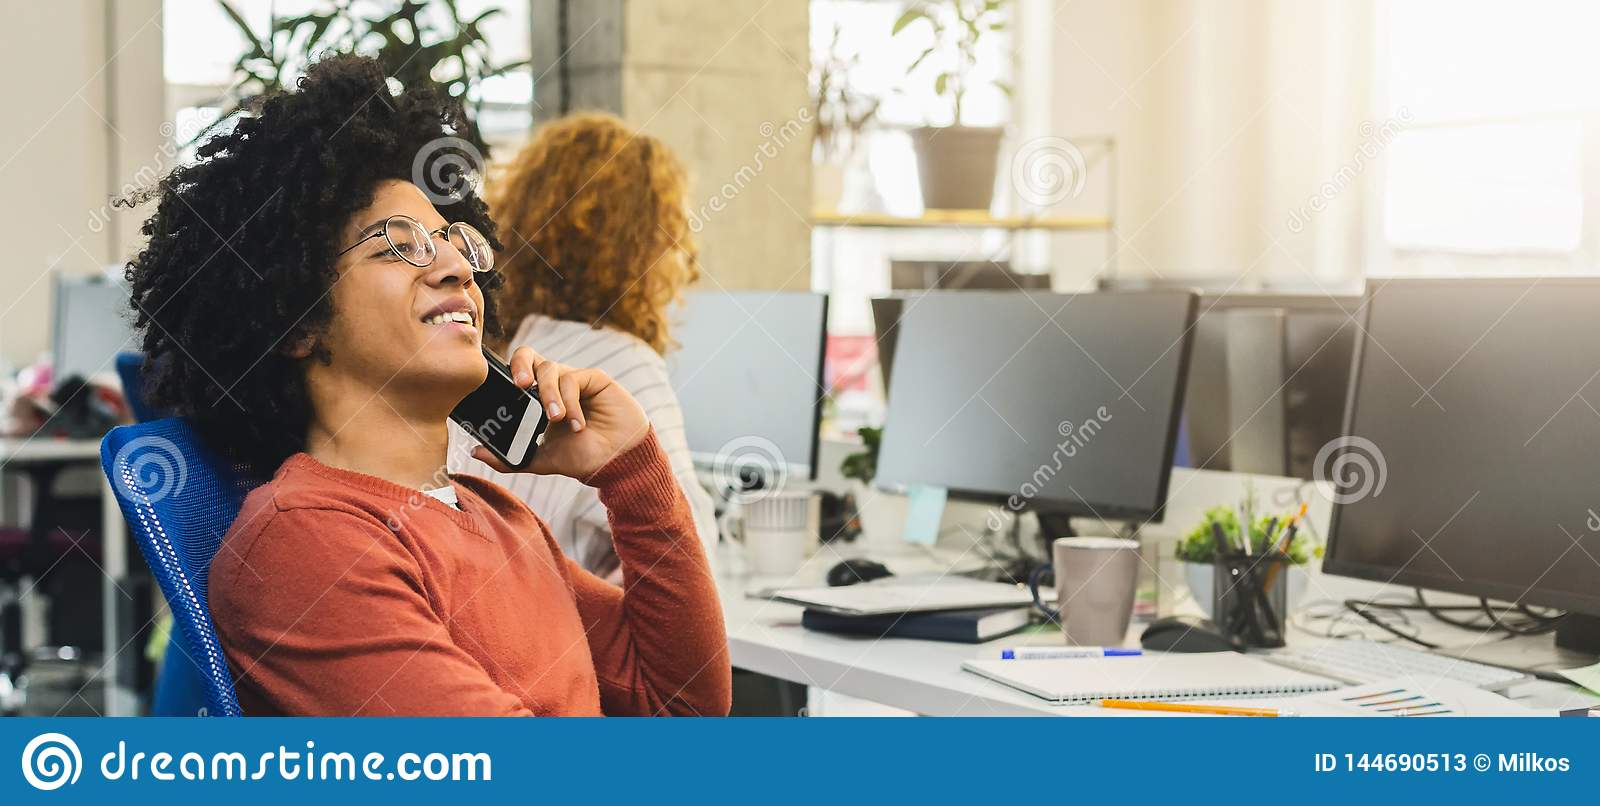phone: (445, 349, 554, 472)
talk: (355, 215, 641, 479)
